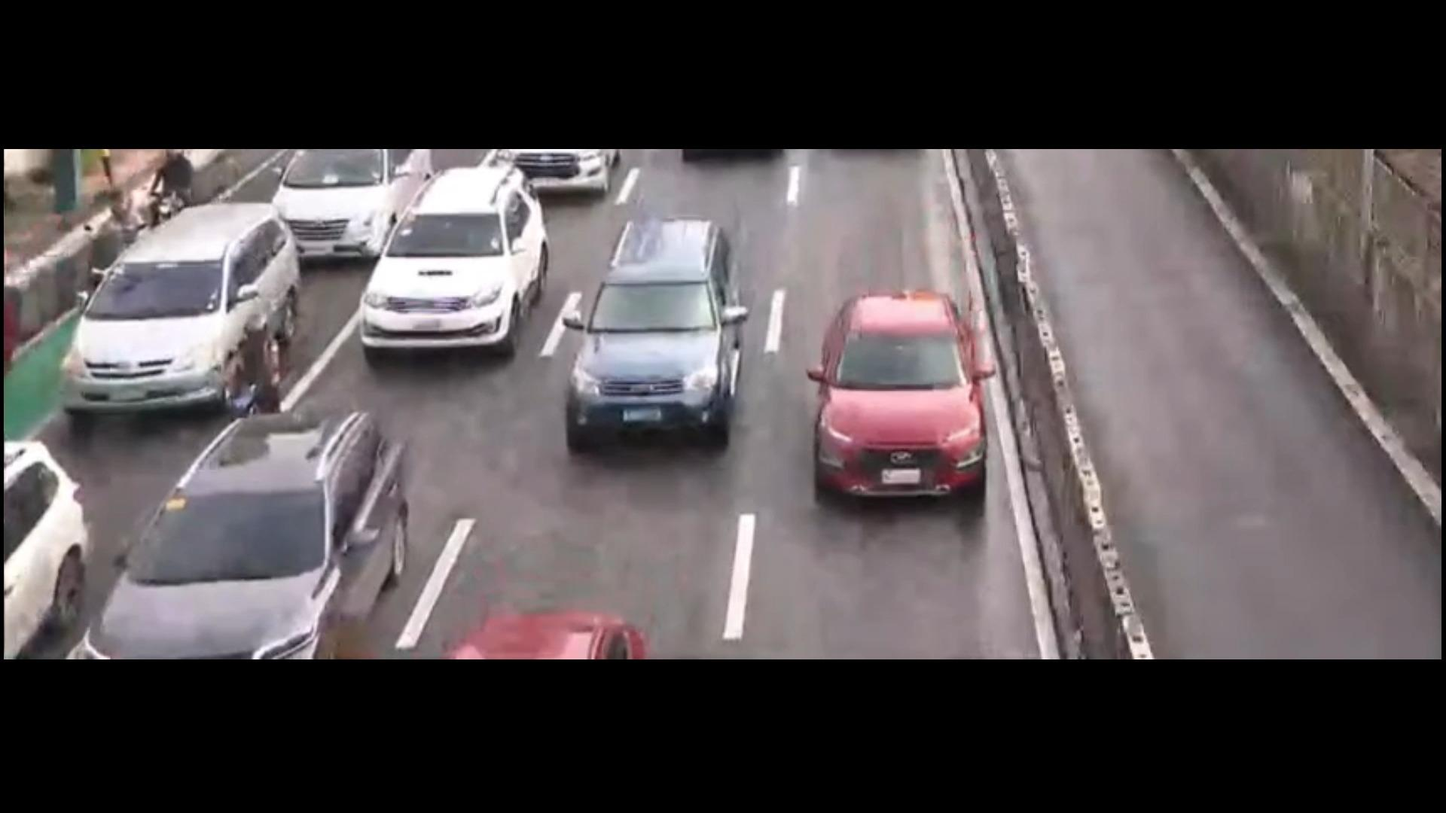Motorcycle: (141, 151, 217, 229)
SUV: (64, 382, 418, 661), (42, 204, 313, 444), (530, 211, 778, 461), (349, 172, 554, 363), (259, 143, 441, 270)
Sedan: (795, 262, 1013, 529)
